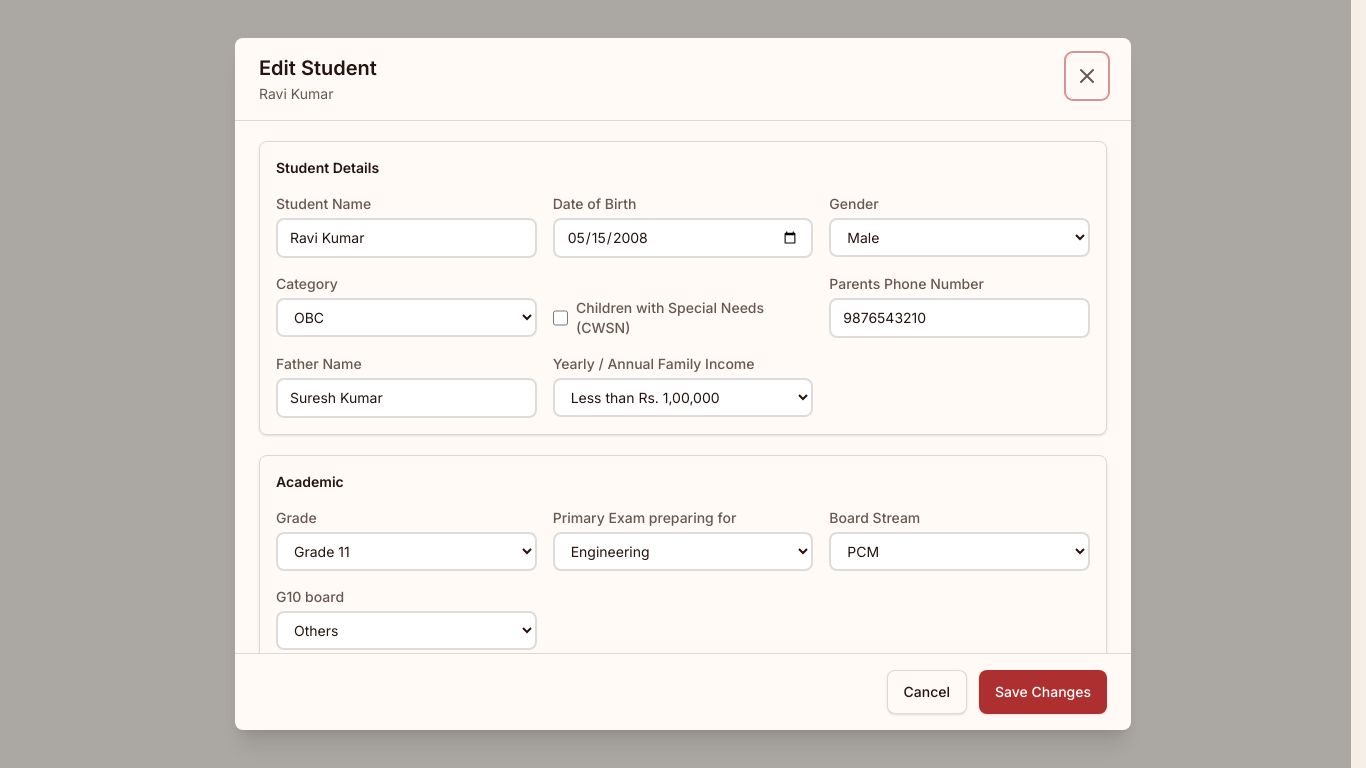
EditStudentModal › rejects periods in the student name
This screenshot has width=1366, height=768.
Replace the text in the field labelled "Student Name" with "Ravi.Kumar" at [406, 238], box [276,218,537,258]
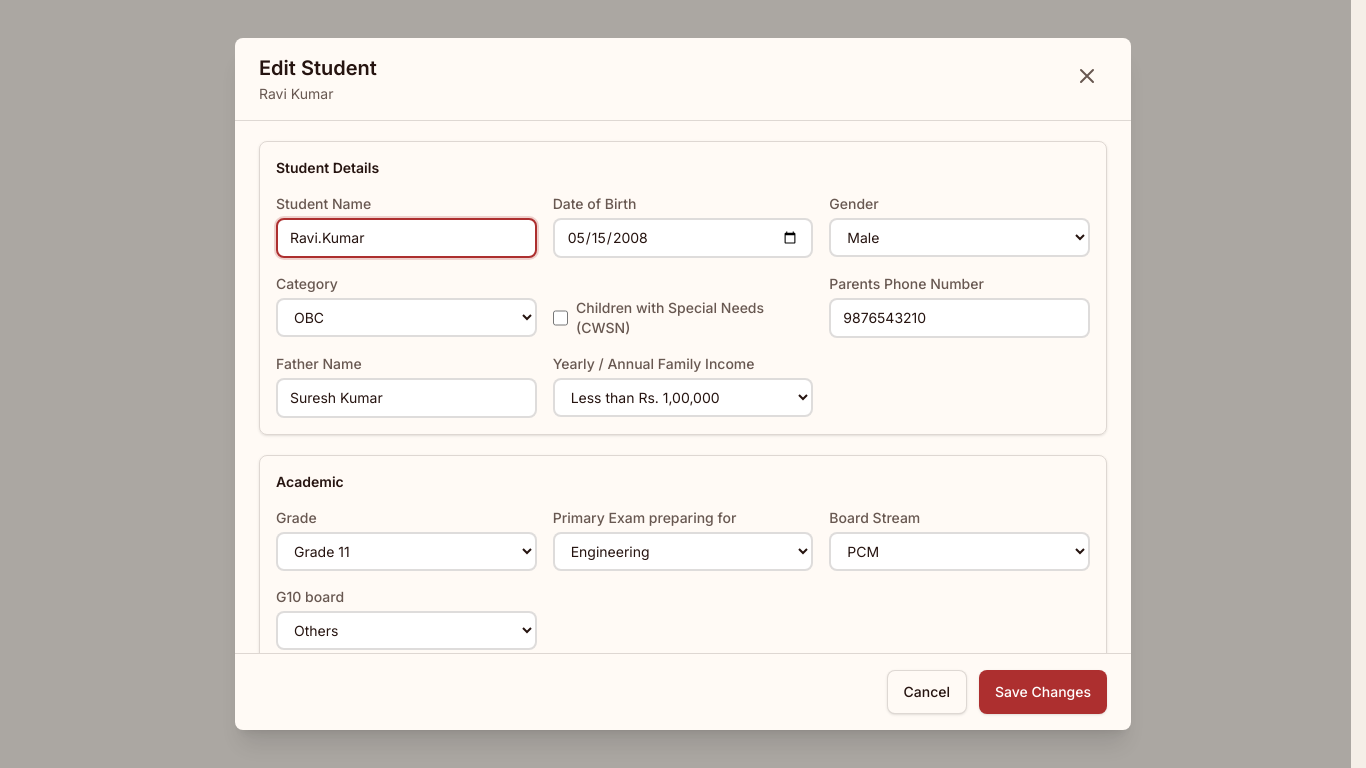
Click the button "Save Changes" at [1043, 692], box [979,670,1107,714]
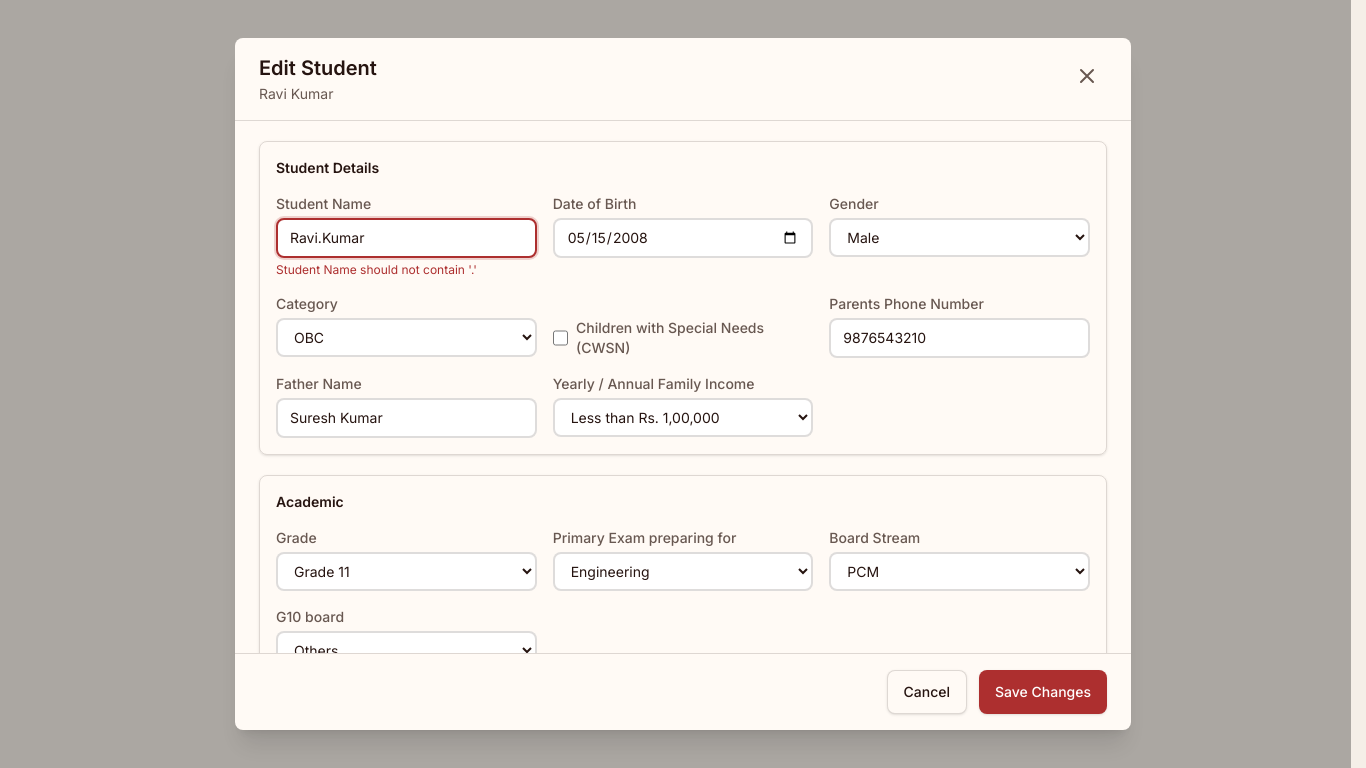
Check: the text "Student Name should not contain '.'" is shown, box [276,262,477,277]
